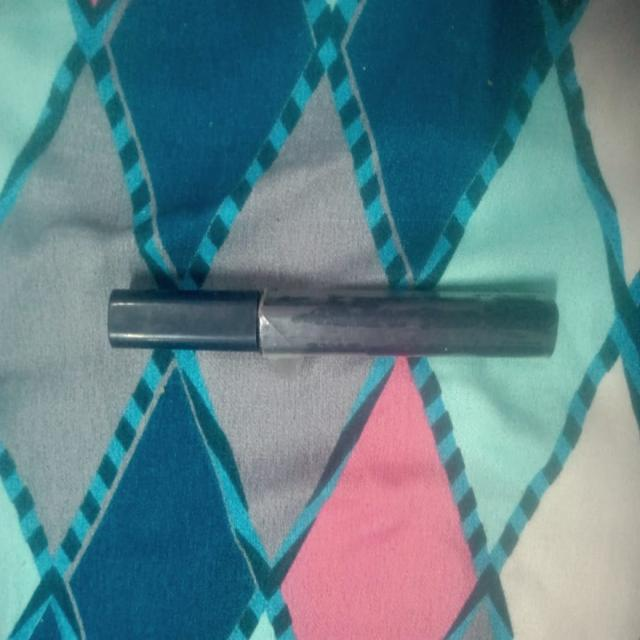mascara: (96, 272, 586, 375)
